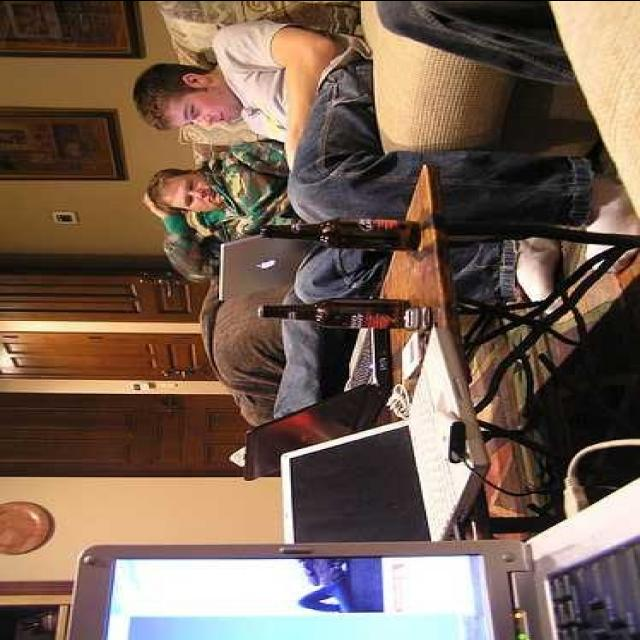laptop: (84, 543, 640, 637), (278, 328, 478, 544), (248, 341, 381, 465), (224, 226, 306, 293)
